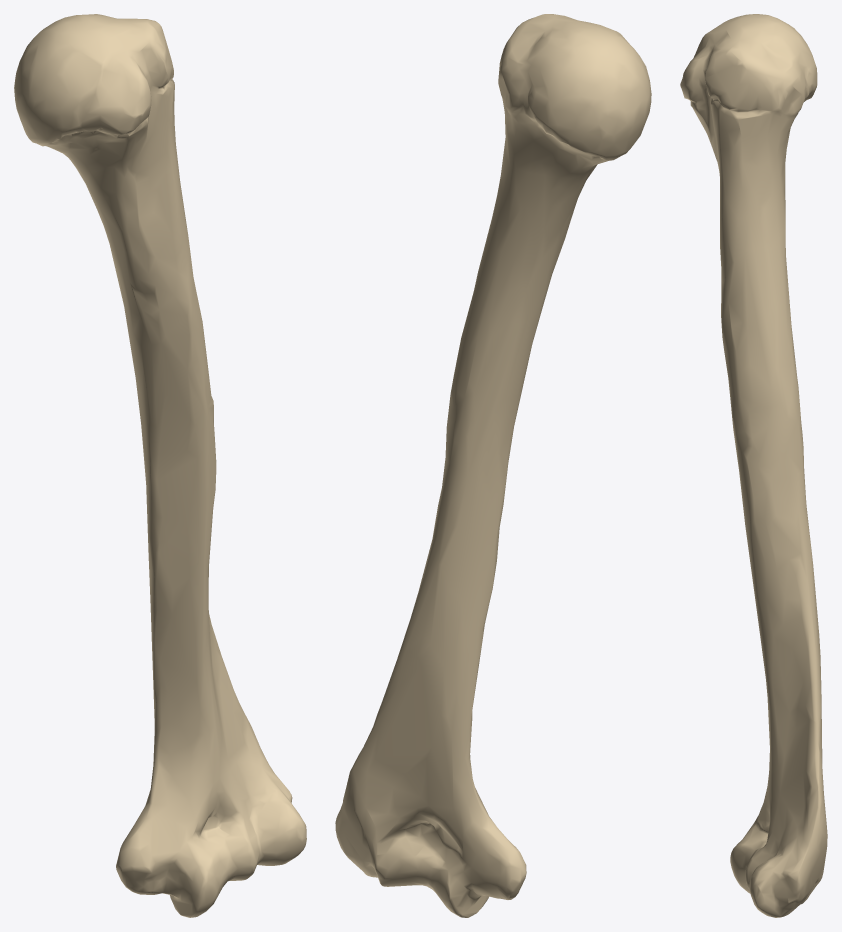
File: l-humerus.glb
The picture shows the model from 3 angles, left to right: view 1: azimuth 30°, elevation 25°; view 2: azimuth 150°, elevation 25°; view 3: azimuth 270°, elevation 25°; orthographic projection. The views are drawn at different scales.
Parts seen in each view (by area): view 1: left-humerus; view 2: left-humerus; view 3: left-humerus.
Boxes of the visible parts, left/top/right/bottom form: left-humerus: left=14, top=14, right=306, bottom=917; left-humerus: left=335, top=14, right=651, bottom=917; left-humerus: left=680, top=14, right=827, bottom=917.
Size of the model in its own units: 0.2523 by 0.7685 by 0.1237.
